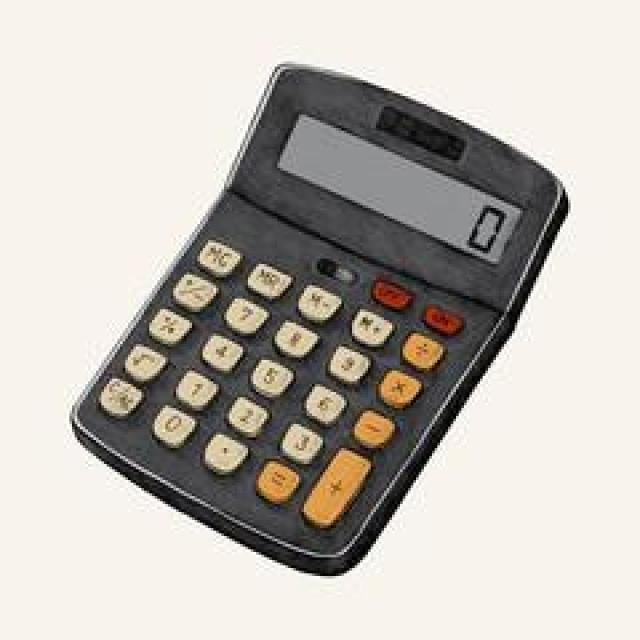Calculator: (57, 46, 572, 614)
